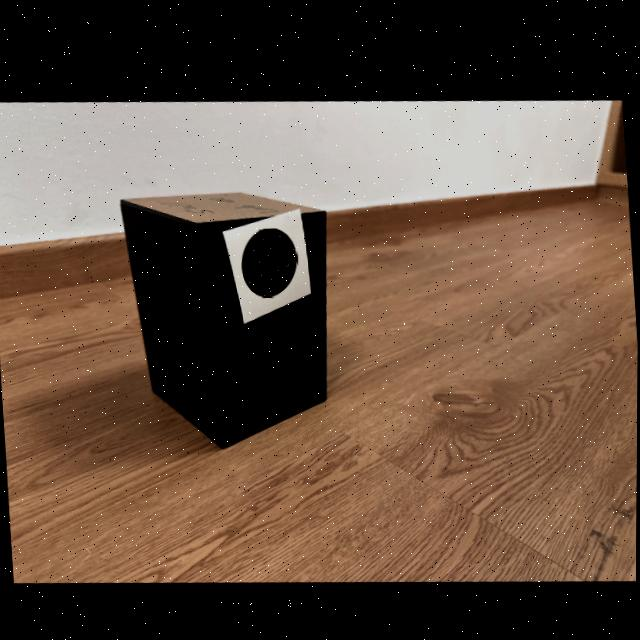CIRCLE: (242, 225, 297, 293)
